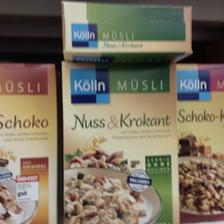Cerealien: (60, 58, 180, 222), (0, 61, 56, 221), (174, 62, 222, 222)
